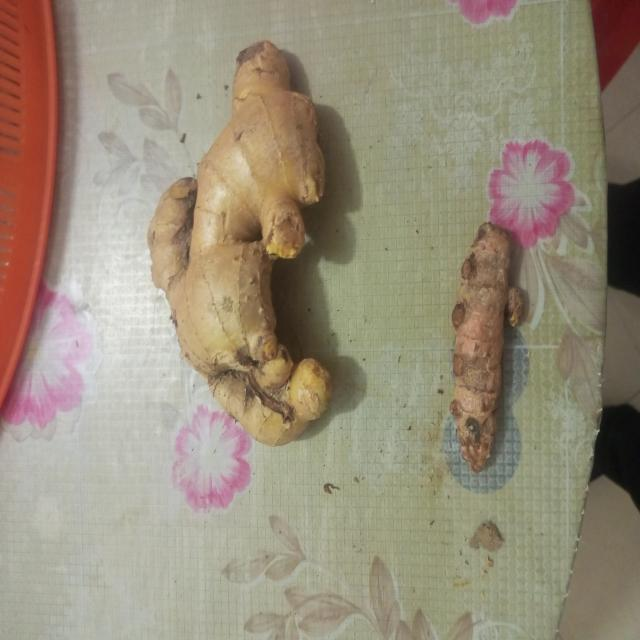ginger: (170, 51, 328, 434), (454, 226, 523, 464)
